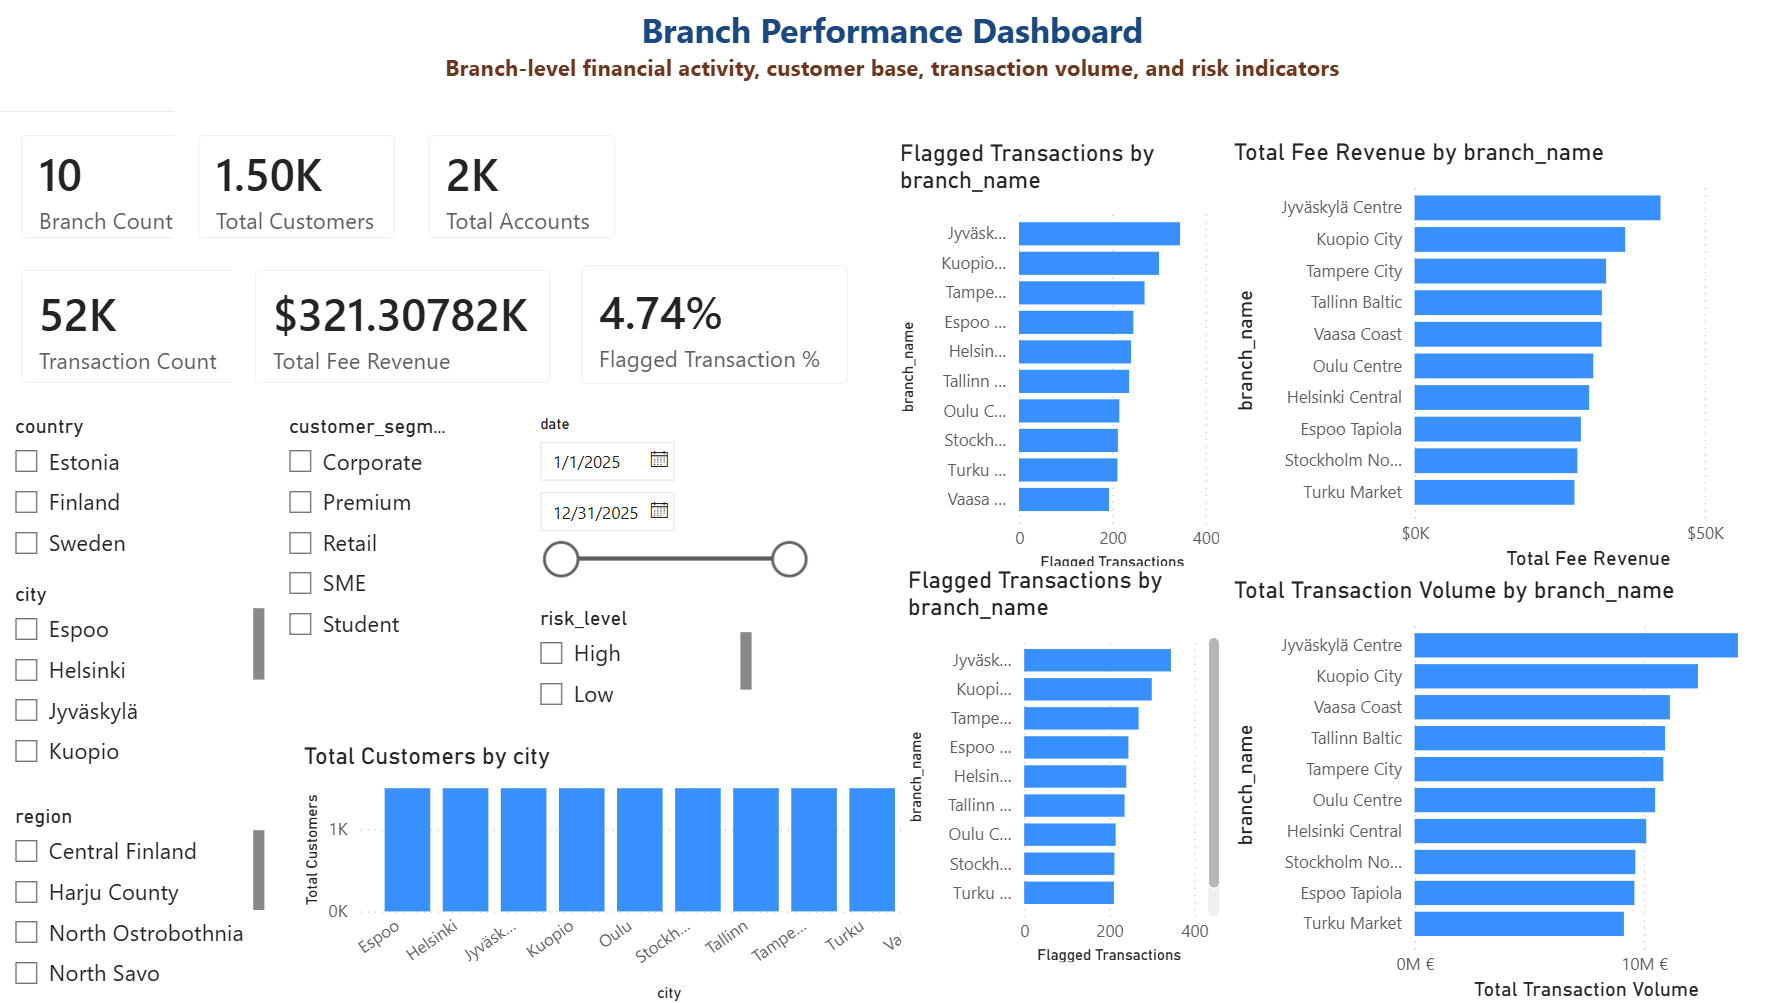

What the dashboard file says about the page in this screenshot:
{"tool":"powerbi","page":{"name":"Branch Performance","canvas":[1280,720],"ordinal":3},"visuals":[{"type":"textbox","box":[280.8,0,717.5,79.2],"z":0},{"type":"cardVisual","fields":{"Data":["_Measures.Branch Count"]},"box":[0,79.2,158.3,108.3],"z":1000},{"type":"cardVisual","fields":{"Data":["_Measures.Total Customers"]},"box":[126.7,79.2,175,108.3],"z":2000},{"type":"cardVisual","fields":{"Data":["_Measures.Total Accounts"]},"box":[290.8,79.2,168.3,108.3],"z":3000},{"type":"cardVisual","fields":{"Data":["_Measures.Transaction Count"]},"box":[0,175.8,195.8,115.8],"z":4000},{"type":"cardVisual","fields":{"Data":["_Measures.Total Fee Revenue"]},"box":[167.5,175.8,245.8,115.8],"z":5000},{"type":"cardVisual","fields":{"Data":["_Measures.Flagged Transaction %"]},"box":[400,172.5,225.8,119.2],"z":6000},{"type":"slicer","fields":{"Values":["branches.country"]},"box":[0,291.7,195.8,150],"z":7000},{"type":"slicer","fields":{"Values":["branches.city"]},"box":[0,411.7,195.8,150],"z":8000},{"type":"slicer","fields":{"Values":["branches.region"]},"box":[0,570,196,150],"z":9000},{"type":"slicer","fields":{"Values":["customers.customer_segment"]},"box":[195.8,291.7,151.7,195],"z":10000},{"type":"slicer","fields":{"Values":["customers.risk_level"]},"box":[375,428.3,169.2,88.3],"z":11000},{"type":"slicer","fields":{"Values":["calendar.date"]},"box":[375,291.7,212.5,136.7],"z":12000},{"type":"clusteredBarChart","fields":{"Category":["branches.branch_name"],"Y":["_Measures.Total Transaction Volume"]},"box":[878.3,411.7,401.7,308.3],"z":13000},{"type":"clusteredBarChart","fields":{"Category":["branches.branch_name"],"Y":["_Measures.Total Fee Revenue"]},"box":[878.3,98.3,401.7,313.3],"z":14000},{"type":"clusteredColumnChart","fields":{"Category":["branches.city"],"Y":["_Measures.Total Customers"]},"box":[214.2,530,490.8,190],"z":15000},{"type":"clusteredBarChart","fields":{"Category":["branches.branch_name"],"Y":["_Measures.Flagged Transactions"]},"box":[640,99.2,238.3,312.5],"z":16000},{"type":"clusteredBarChart","fields":{"Category":["branches.branch_name"],"Y":["_Measures.Flagged Transactions"]},"box":[645.8,404.2,232.5,288.3],"z":17000}]}

Visuals, with their boxes in screenshot pixels (x1, y1, x2, y2), scaled from the page's 1280x720 canvas onto the 1786x1003 screenshot:
textbox: (left=392, top=0, right=1393, bottom=110)
cardVisual - _Measures.Branch Count: (left=0, top=110, right=221, bottom=261)
cardVisual - _Measures.Total Customers: (left=177, top=110, right=421, bottom=261)
cardVisual - _Measures.Total Accounts: (left=406, top=110, right=641, bottom=261)
cardVisual - _Measures.Transaction Count: (left=0, top=245, right=273, bottom=406)
cardVisual - _Measures.Total Fee Revenue: (left=234, top=245, right=577, bottom=406)
cardVisual - _Measures.Flagged Transaction %: (left=558, top=240, right=873, bottom=406)
slicer - branches.country: (left=0, top=406, right=273, bottom=615)
slicer - branches.city: (left=0, top=574, right=273, bottom=782)
slicer - branches.region: (left=0, top=794, right=273, bottom=1002)
slicer - customers.customer_segment: (left=273, top=406, right=485, bottom=678)
slicer - customers.risk_level: (left=523, top=597, right=759, bottom=720)
slicer - calendar.date: (left=523, top=406, right=820, bottom=597)
clusteredBarChart - branches.branch_name x _Measures.Total Transaction Volume: (left=1226, top=574, right=1785, bottom=1002)
clusteredBarChart - branches.branch_name x _Measures.Total Fee Revenue: (left=1226, top=137, right=1785, bottom=573)
clusteredColumnChart - branches.city x _Measures.Total Customers: (left=299, top=738, right=984, bottom=1002)
clusteredBarChart - branches.branch_name x _Measures.Flagged Transactions: (left=893, top=138, right=1226, bottom=574)
clusteredBarChart - branches.branch_name x _Measures.Flagged Transactions: (left=901, top=563, right=1226, bottom=965)
